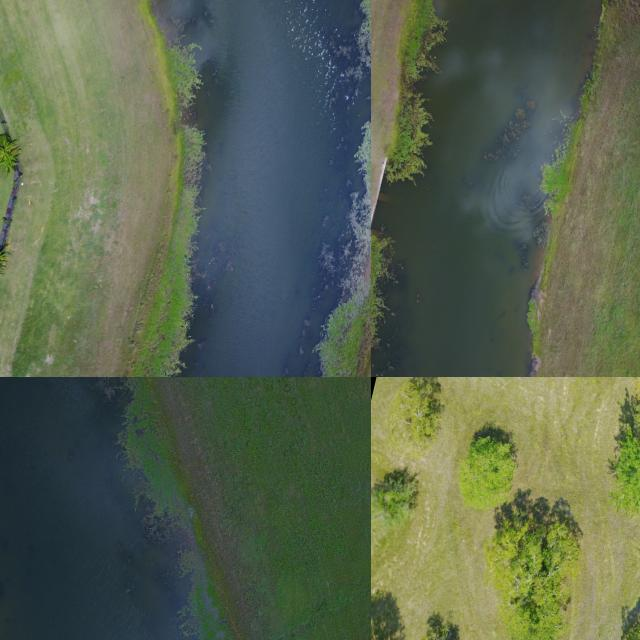fire: (371, 0, 601, 377), (158, 0, 371, 377), (0, 377, 189, 640)
